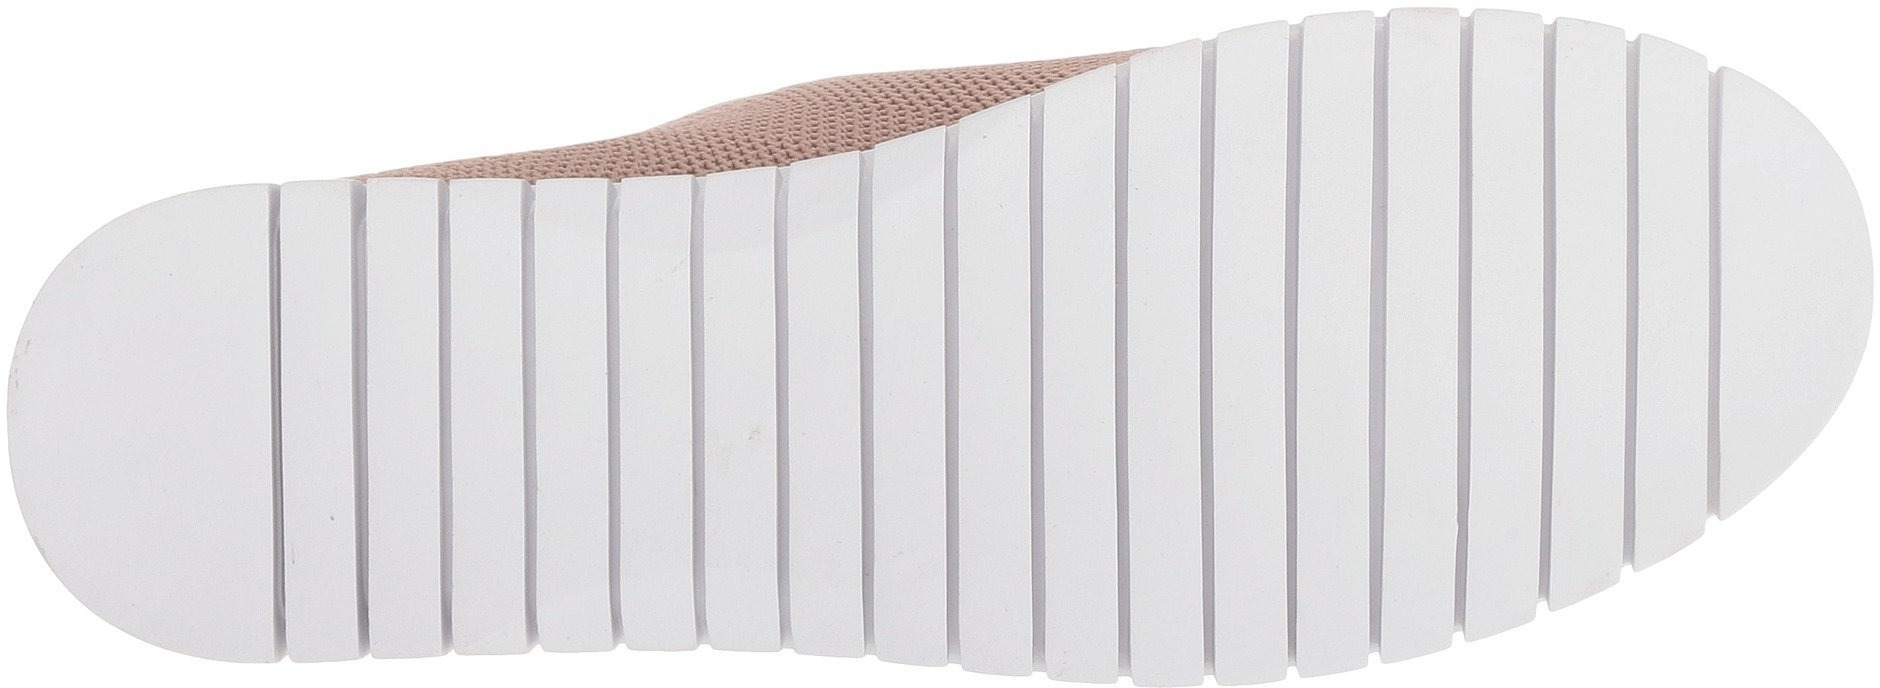line: (842, 216, 1194, 577), (471, 259, 802, 595), (1228, 350, 1518, 620), (1225, 70, 1506, 332), (279, 267, 466, 452), (1590, 279, 1771, 466), (1522, 48, 1697, 225)
other: (7, 180, 272, 687), (1717, 70, 1867, 515)
quad: (263, 10, 1719, 683)
